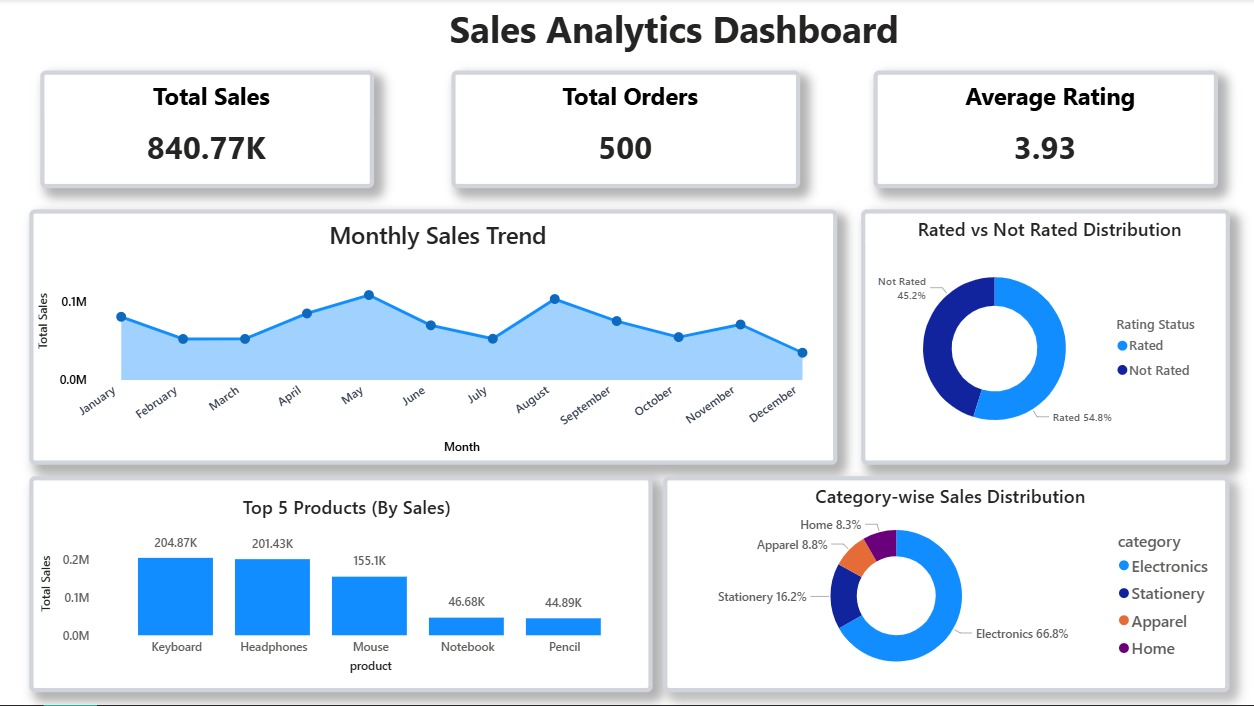

Layout of this report page (visuals, bound fields, positions):
{"tool":"powerbi","page":{"name":"Page 1","canvas":[1280,720],"ordinal":0},"visuals":[{"type":"donutChart","title":"Rated vs Not Rated Distribution","fields":{"Category":["sales_analytics_dataset.Rating Status"],"Y":["CountNonNull(sales_analytics_dataset.Rating Status)"]},"box":[878.6,214.3,375.7,260],"z":0},{"type":"card","title":"Total Sales","fields":{"Values":["sales_analytics_dataset.Total Sales"]},"box":[41.4,72.9,340,120],"z":1000},{"type":"card","title":"Average Rating","fields":{"Values":["sales_analytics_dataset.Average Rating"]},"box":[891.4,72.9,351.4,120],"z":2000},{"type":"card","title":"Total Orders","fields":{"Values":["sales_analytics_dataset.Total Orders"]},"box":[461.4,72.9,355.7,120],"z":3000},{"type":"lineChart","title":"Monthly Sales Trend","fields":{"Category":["sales_analytics_dataset.order_month.Variation.Date Hierarchy.Month"],"Y":["sales_analytics_dataset.Total Sales"]},"box":[31.4,214.3,824.3,260],"z":4000},{"type":"clusteredColumnChart","title":"Top 5 Products (By Sales)","fields":{"Category":["sales_analytics_dataset.product"],"Y":["sales_analytics_dataset.Total Sales"]},"box":[31.4,487.1,635.7,220],"z":5000},{"type":"donutChart","title":"Category-wise Sales Distribution","fields":{"Category":["sales_analytics_dataset.category"],"Y":["sales_analytics_dataset.Total Sales"]},"box":[677.1,487.1,577.1,220],"z":6000},{"type":"textbox","box":[350,0,675.7,62.9],"z":6001}]}

Visuals, with their boxes in screenshot pixels (x1, y1, x2, y2), scaled from the page's 1280x720 canvas onto the 1254x706 screenshot:
"Rated vs Not Rated Distribution" donutChart: {"left": 861, "top": 210, "right": 1229, "bottom": 465}
"Total Sales" card: {"left": 41, "top": 71, "right": 374, "bottom": 189}
"Average Rating" card: {"left": 873, "top": 71, "right": 1218, "bottom": 189}
"Total Orders" card: {"left": 452, "top": 71, "right": 801, "bottom": 189}
"Monthly Sales Trend" lineChart: {"left": 31, "top": 210, "right": 838, "bottom": 465}
"Top 5 Products (By Sales)" clusteredColumnChart: {"left": 31, "top": 478, "right": 654, "bottom": 693}
"Category-wise Sales Distribution" donutChart: {"left": 663, "top": 478, "right": 1229, "bottom": 693}
textbox: {"left": 343, "top": 0, "right": 1005, "bottom": 62}
